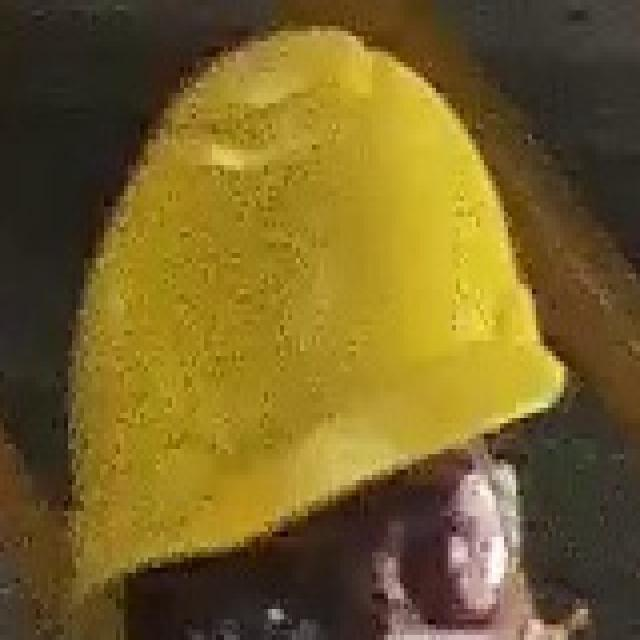yellow helmet: (44, 16, 574, 614)
